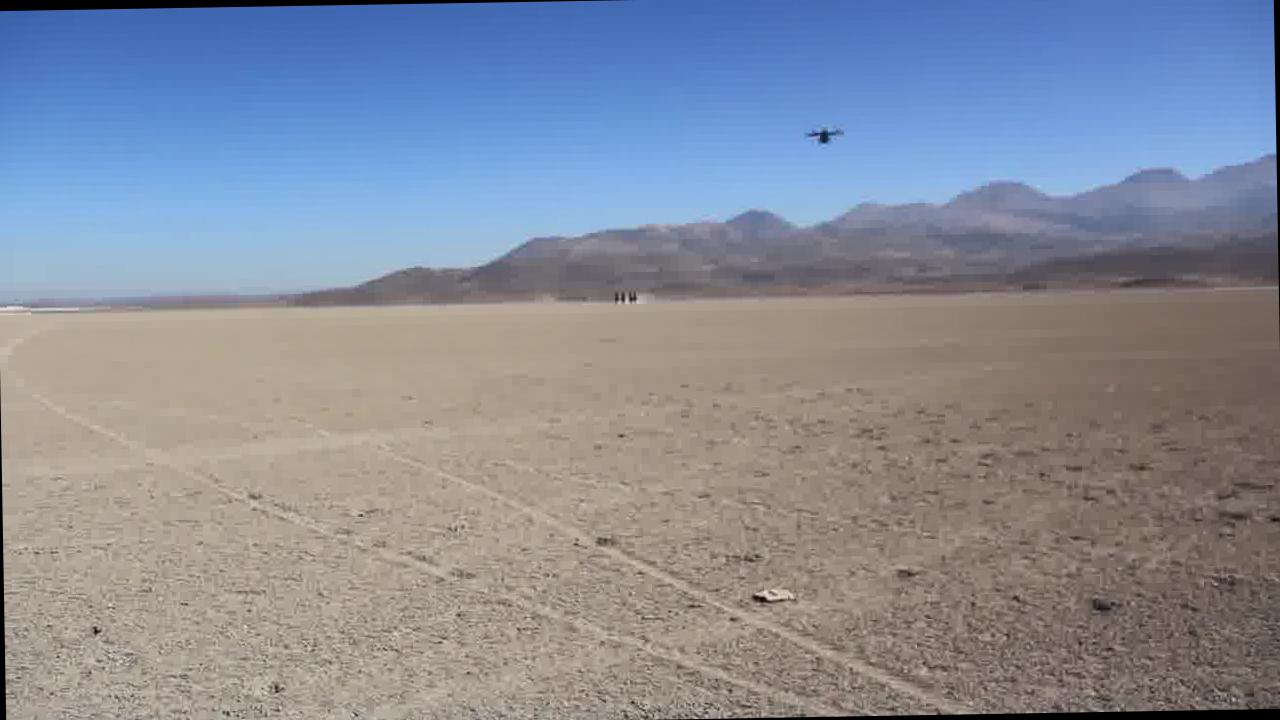drone: (800, 118, 846, 150)
